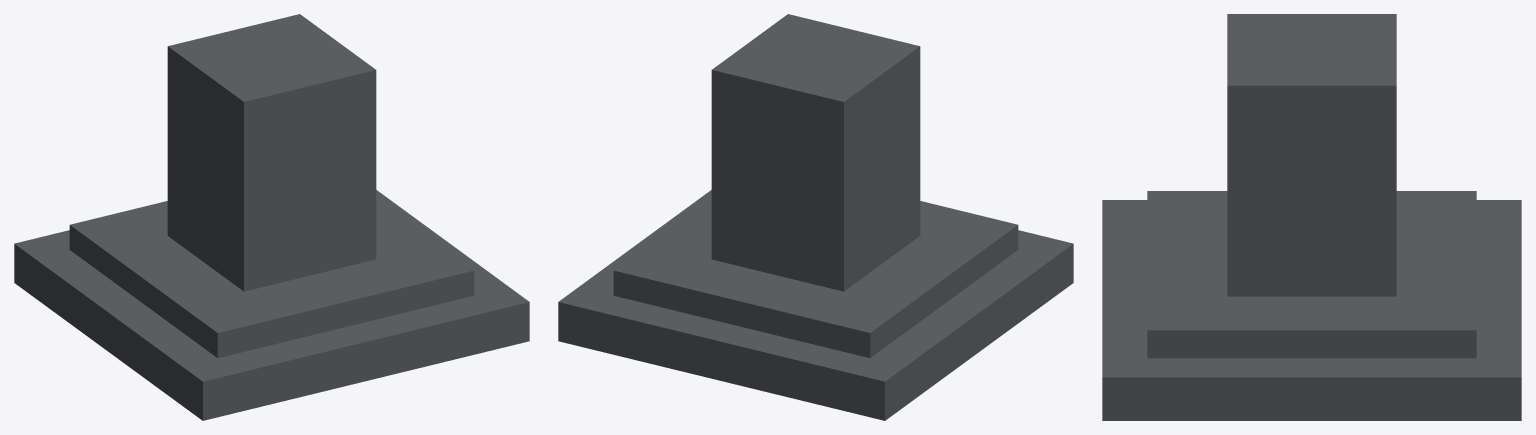
File: stand2.glb
3 views of the same model, side by side, from view 1: azimuth 30°, elevation 25°; view 2: azimuth 150°, elevation 25°; view 3: azimuth 270°, elevation 25° (orthographic). The views are drawn at different scales.
Parts seen in each view (by area): view 1: Pedestal1; view 2: Pedestal1; view 3: Pedestal1.
Part boxes in pixels (bbox=[...]): Pedestal1: bbox=[14, 14, 529, 420]; Pedestal1: bbox=[558, 14, 1073, 420]; Pedestal1: bbox=[1102, 14, 1521, 420].
Bounding box in the file's own units: 1 × 0.7428 × 1.
1 material, 1 textured.
